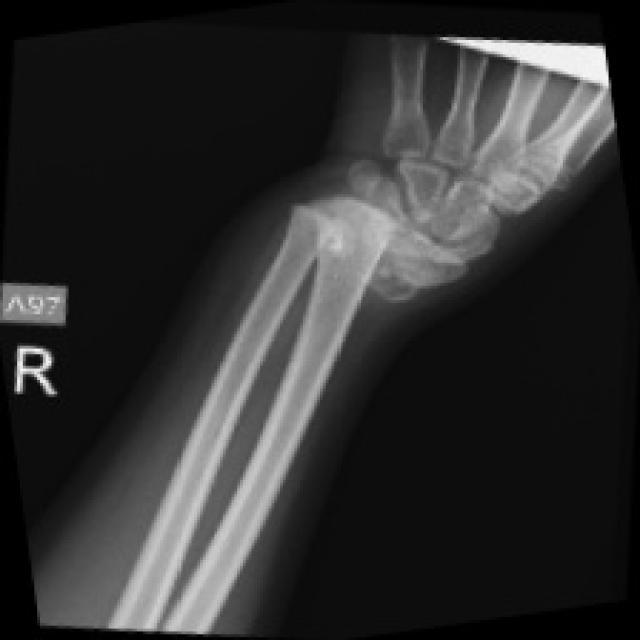fracture: (262, 132, 446, 280)
